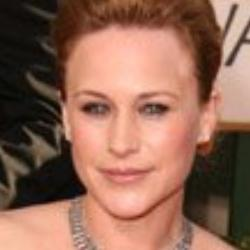face: (37, 1, 237, 223)
